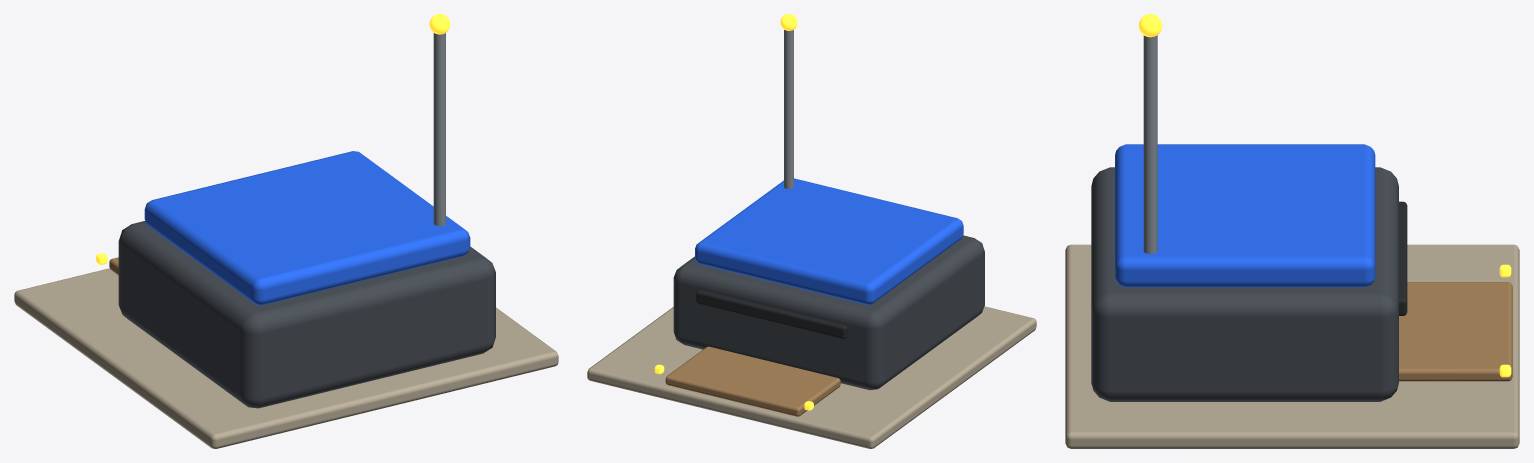
Rendered from outpost.glb.
3 views of the same model, side by side, from view 1: azimuth 30°, elevation 25°; view 2: azimuth 150°, elevation 25°; view 3: azimuth 270°, elevation 25° (orthographic). The views are drawn at different scales.
Visible parts, largest first — view 1: stage_1__M_SmokePlastic, stage_2__M_Team, stage_0__M_SugarPad, stage_3__M_SpringSteel; view 2: stage_1__M_SmokePlastic, stage_2__M_Team, stage_0__M_SugarPad, stage_1__M_Kraft, stage_1__M_Dark, stage_3__M_SpringSteel; view 3: stage_1__M_SmokePlastic, stage_2__M_Team, stage_0__M_SugarPad, stage_1__M_Kraft, stage_3__M_SpringSteel, stage_1__M_Dark, stage_3__M_E_Amber.
Boxes of the visible parts, x1,y1,x2,y2 form: stage_1__M_SmokePlastic: (118,221,495,408); stage_2__M_Team: (144,151,470,305); stage_0__M_SugarPad: (14,268,558,448); stage_3__M_SpringSteel: (433,33,445,225); stage_1__M_SmokePlastic: (673,235,984,390); stage_2__M_Team: (695,178,963,304); stage_0__M_SugarPad: (587,306,1036,448); stage_1__M_Kraft: (665,346,840,416); stage_1__M_Dark: (696,290,847,338); stage_3__M_SpringSteel: (784,30,793,188); stage_1__M_SmokePlastic: (1091,167,1398,401); stage_2__M_Team: (1115,144,1375,287); stage_0__M_SugarPad: (1065,244,1519,448); stage_1__M_Kraft: (1399,282,1512,381); stage_3__M_SpringSteel: (1143,35,1157,253); stage_1__M_Dark: (1399,201,1407,315); stage_3__M_E_Amber: (1138,14,1162,37).
Bounding box in the file's own units: 1.92 × 1.82 × 1.92.
